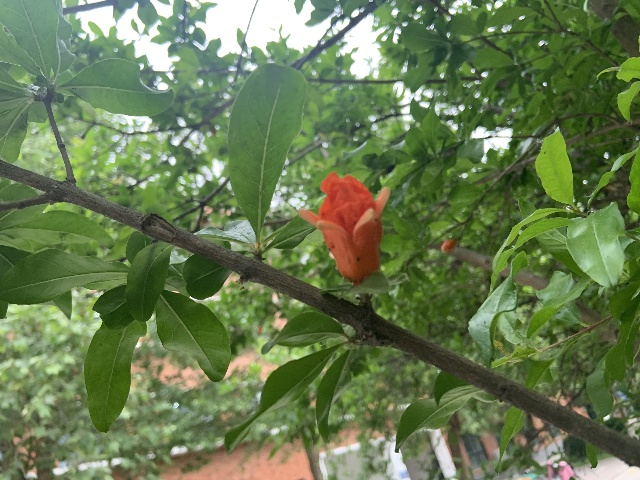bud: (440, 239, 457, 252)
flower: (297, 172, 390, 286)
